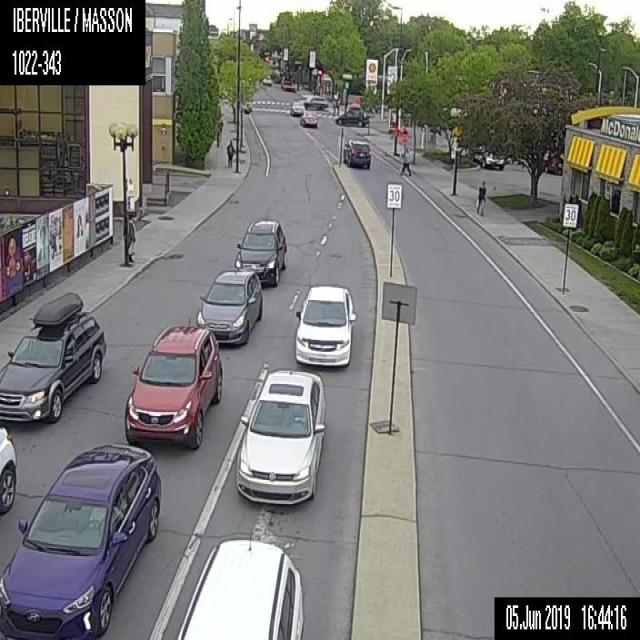construction: (401, 125, 408, 154), (392, 126, 400, 137)
pedestrian: (126, 212, 136, 261), (476, 179, 487, 216), (398, 147, 411, 176), (225, 138, 235, 168)
vehicle: (0, 444, 161, 639), (0, 290, 106, 425), (124, 316, 222, 451), (175, 537, 302, 639), (234, 368, 324, 504), (196, 268, 262, 347), (294, 284, 356, 365), (234, 219, 286, 284), (0, 420, 15, 516), (342, 136, 371, 169), (473, 144, 504, 170), (335, 105, 368, 127), (302, 95, 328, 109), (299, 108, 317, 127), (289, 100, 303, 115), (280, 78, 293, 90), (262, 74, 271, 85)
